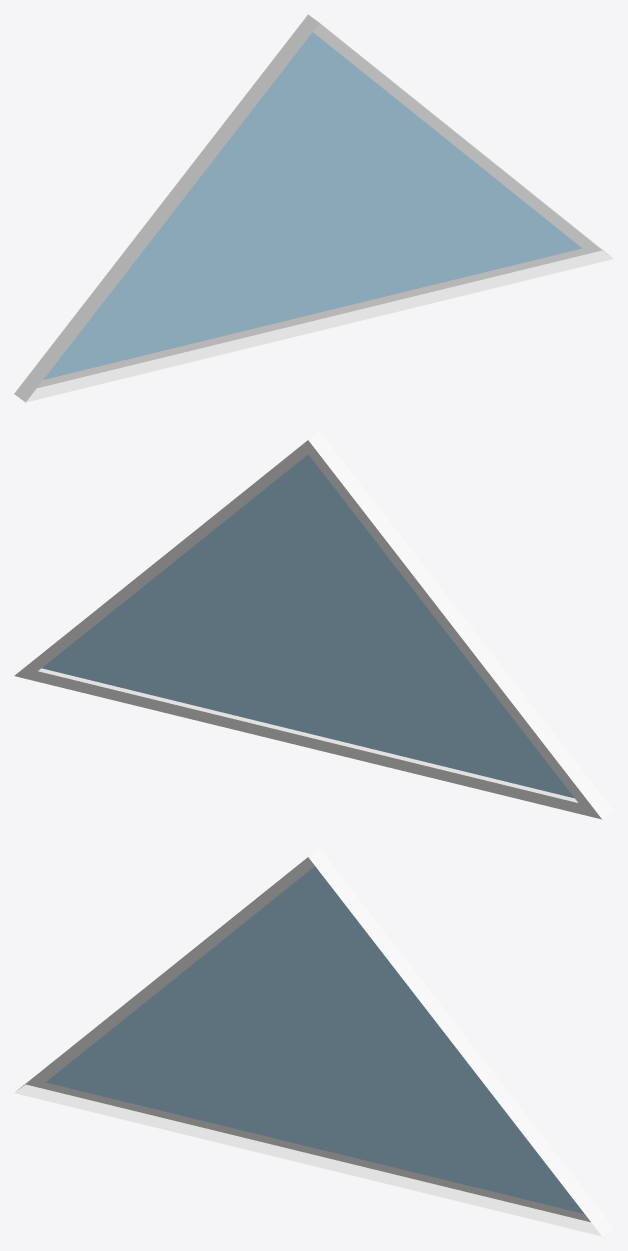
Rendered from OneRoofFrontWindow.fbx.
The picture shows the model from 3 angles, top to bottom: view 1: azimuth 30°, elevation 25°; view 2: azimuth 150°, elevation 25°; view 3: azimuth 330°, elevation 25°; orthographic projection.
Parts seen in each view (by area): view 1: OneRoofFrontWindow_LOD0; view 2: OneRoofFrontWindow_LOD0; view 3: OneRoofFrontWindow_LOD0.
Boxes of the visible parts, x1,y1,x2,y2 form: OneRoofFrontWindow_LOD0: [14, 14, 613, 402]; OneRoofFrontWindow_LOD0: [14, 431, 613, 819]; OneRoofFrontWindow_LOD0: [14, 848, 613, 1236].
Size of what is drawn, in the model's own units: 870 by 435 by 30.
